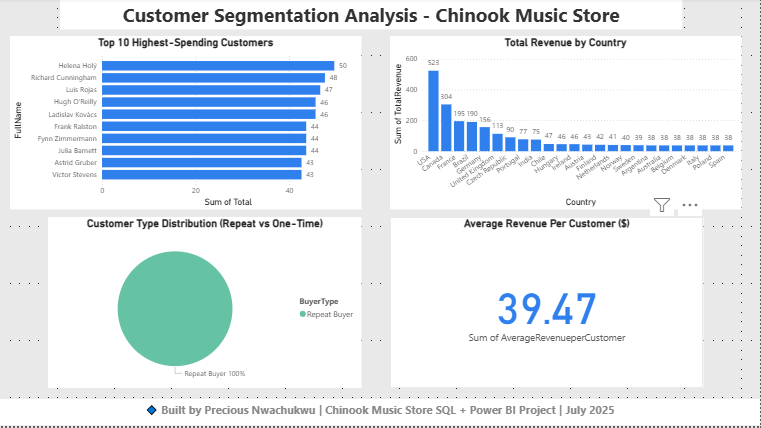

Layout of this report page (visuals, bound fields, positions):
{"tool":"powerbi","page":{"name":"Page 1","canvas":[1280,720],"ordinal":0},"visuals":[{"type":"clusteredBarChart","title":"Top 10 Highest-Spending Customers","fields":{"Y":["Invoice.Total"],"Category":["Customer.FullName"]},"box":[16,64,592,292],"z":0},{"type":"pieChart","title":"Customer Type Distribution (Repeat vs One-Time)","fields":{"Category":["Query1.BuyerType"],"Y":["Query1.CountType"]},"box":[80,368,528,288],"z":1000},{"type":"clusteredColumnChart","title":"Total Revenue by Country","fields":{"Category":["Query2.Country"],"Y":["Query2.TotalRevenue"]},"box":[656,64,592,292],"z":2000},{"type":"card","title":"Average Revenue Per Customer ($)","fields":{"Values":["Query3.AverageRevenueperCustomer"]},"box":[656,368,528,288],"z":3000},{"type":"textbox","box":[100.4,0,1048,52.6],"z":4000},{"type":"textbox","box":[0,676.2,1280,44.4],"z":6000}]}

Visuals, with their boxes in screenshot pixels (x1, y1, x2, y2), scaled from the page's 1280x720 canvas onto the 761x428 screenshot:
"Top 10 Highest-Spending Customers" clusteredBarChart: Rect(10, 38, 361, 212)
"Customer Type Distribution (Repeat vs One-Time)" pieChart: Rect(48, 219, 361, 390)
"Total Revenue by Country" clusteredColumnChart: Rect(390, 38, 742, 212)
"Average Revenue Per Customer ($)" card: Rect(390, 219, 704, 390)
textbox: Rect(60, 0, 683, 31)
textbox: Rect(0, 402, 760, 427)
